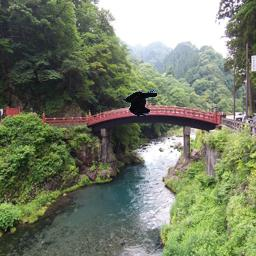Crow: (122, 89, 157, 116)
